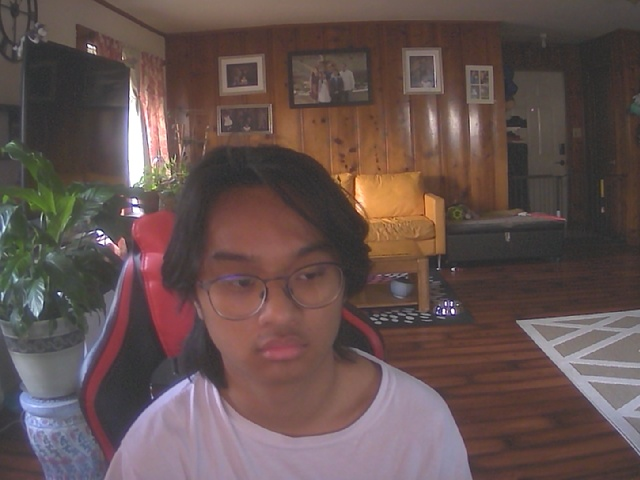neutral: (179, 154, 358, 386)
